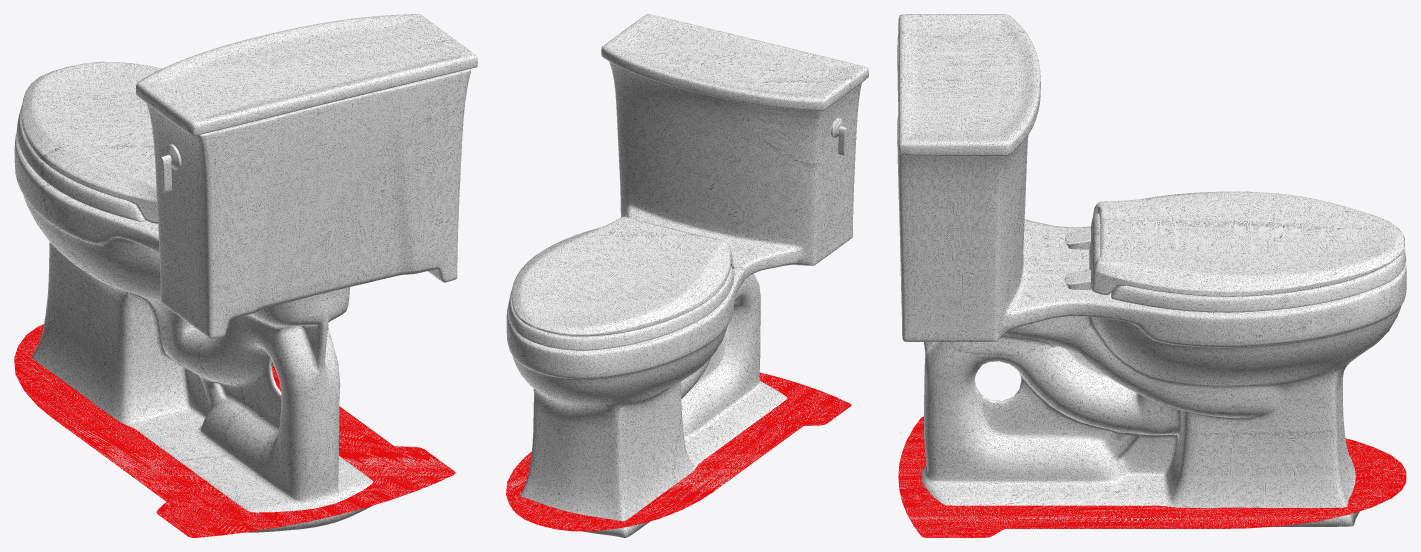
The model's file is TOILET.dae.
The picture shows the model from 3 angles, left to right: view 1: azimuth 30°, elevation 25°; view 2: azimuth 150°, elevation 25°; view 3: azimuth 270°, elevation 25°; orthographic projection. The views are drawn at different scales.
Visible parts, largest first — view 1: instance_1, FF_Model_ID15539_1_TOTO_DrakeII.dwg (×2); view 2: instance_1, FF_Model_ID15539_1_TOTO_DrakeII.dwg (×2); view 3: instance_1, FF_Model_ID15539_1_TOTO_DrakeII.dwg (×2).
Boxes of the visible parts, bbox=[...] form: instance_1: bbox=[14, 14, 477, 532]; FF_Model_ID15539_1_TOTO_DrakeII.dwg (×2): bbox=[14, 324, 455, 537]; instance_1: bbox=[506, 14, 868, 537]; FF_Model_ID15539_1_TOTO_DrakeII.dwg (×2): bbox=[506, 372, 851, 531]; instance_1: bbox=[897, 14, 1406, 526]; FF_Model_ID15539_1_TOTO_DrakeII.dwg (×2): bbox=[898, 416, 1406, 537].
Size of the model in its own units: 17.81 by 29.18 by 26.22.
